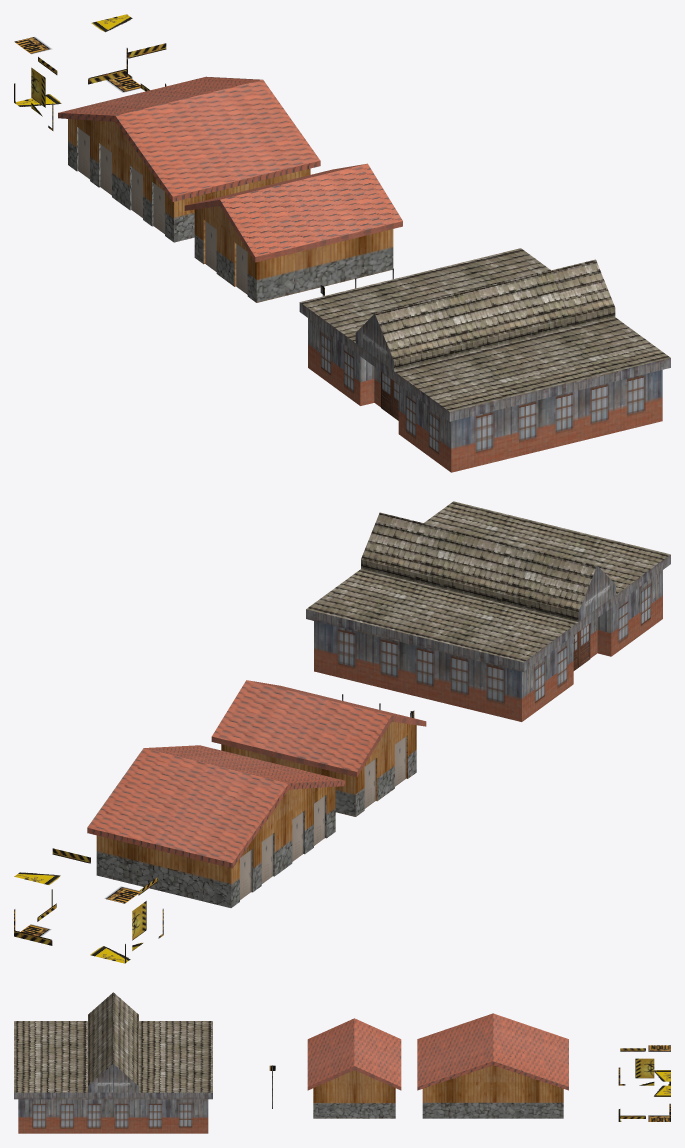
The picture shows the model from 3 angles, top to bottom: view 1: azimuth 30°, elevation 25°; view 2: azimuth 150°, elevation 25°; view 3: azimuth 270°, elevation 25°; orthographic projection. The views are drawn at different scales.
Parts seen in each view (by area): view 1: Gift Shop, Restroom big, Restroom small, Cabin; view 2: Gift Shop, Restroom big, Restroom small, Cabin; view 3: Gift Shop, Restroom big, Restroom small, Cabin.
Boxes of the visible parts, box(x1,y1,x2,y2) form: Gift Shop: box(299, 248, 670, 472); Restroom big: box(58, 76, 320, 242); Restroom small: box(184, 163, 402, 302); Cabin: box(14, 14, 166, 130); Gift Shop: box(306, 501, 670, 721); Restroom big: box(87, 745, 345, 907); Restroom small: box(211, 680, 426, 816); Cabin: box(14, 848, 163, 963); Gift Shop: box(14, 992, 212, 1133); Restroom big: box(417, 1013, 568, 1118); Restroom small: box(307, 1018, 401, 1118); Cabin: box(618, 1045, 670, 1121).
Bounding box in the file's own units: 1158 × 559 × 4493.
1 material, 1 textured.
